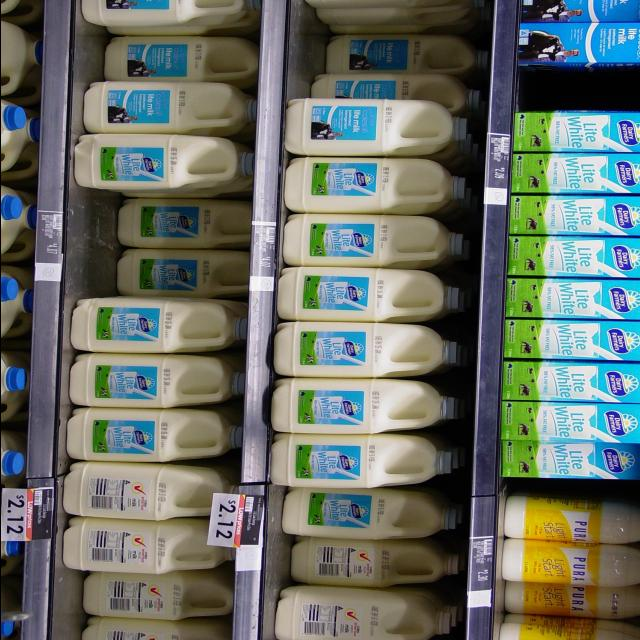empty_space: (64, 200, 120, 295), (519, 69, 637, 110)
